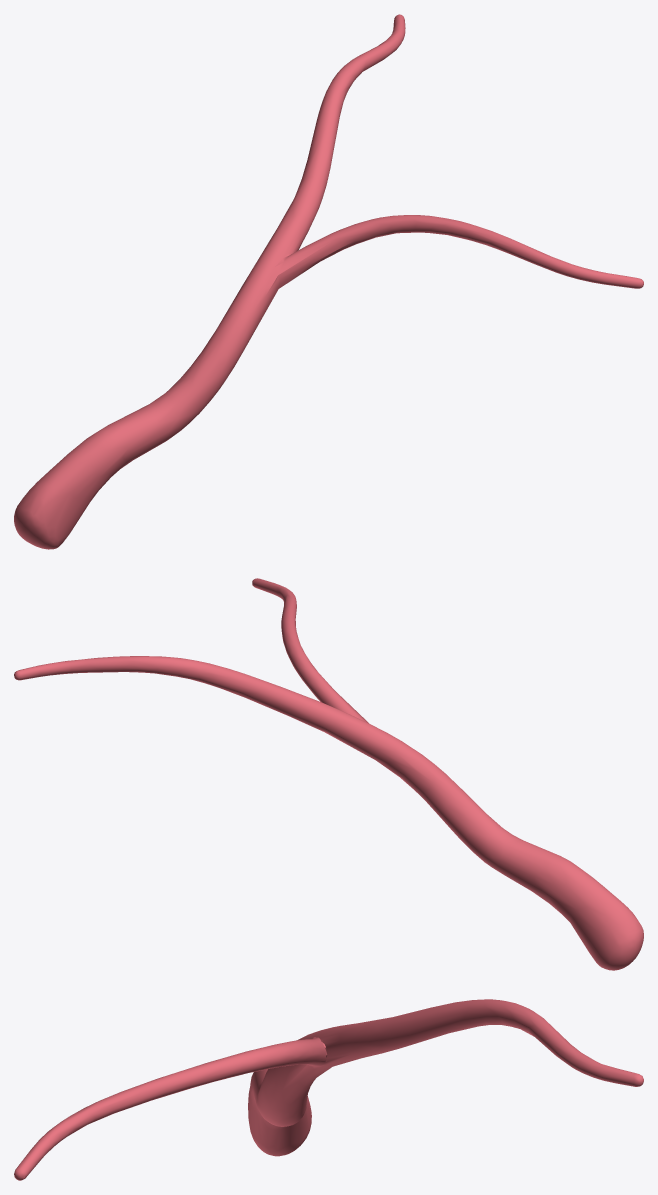
File: fma15431_fj3126.glb
The picture shows the model from 3 angles, top to bottom: view 1: azimuth 30°, elevation 25°; view 2: azimuth 150°, elevation 25°; view 3: azimuth 270°, elevation 25°; orthographic projection. The views are drawn at different scales.
Visible parts, largest first — view 1: FMA15431_FJ3126; view 2: FMA15431_FJ3126; view 3: FMA15431_FJ3126.
Boxes of the visible parts, x1,y1,x2,y2 form: FMA15431_FJ3126: (14, 14, 643, 549); FMA15431_FJ3126: (14, 578, 643, 970); FMA15431_FJ3126: (14, 999, 643, 1180).
Bounding box in the file's own units: 0.0544 × 0.0305 × 0.045.
